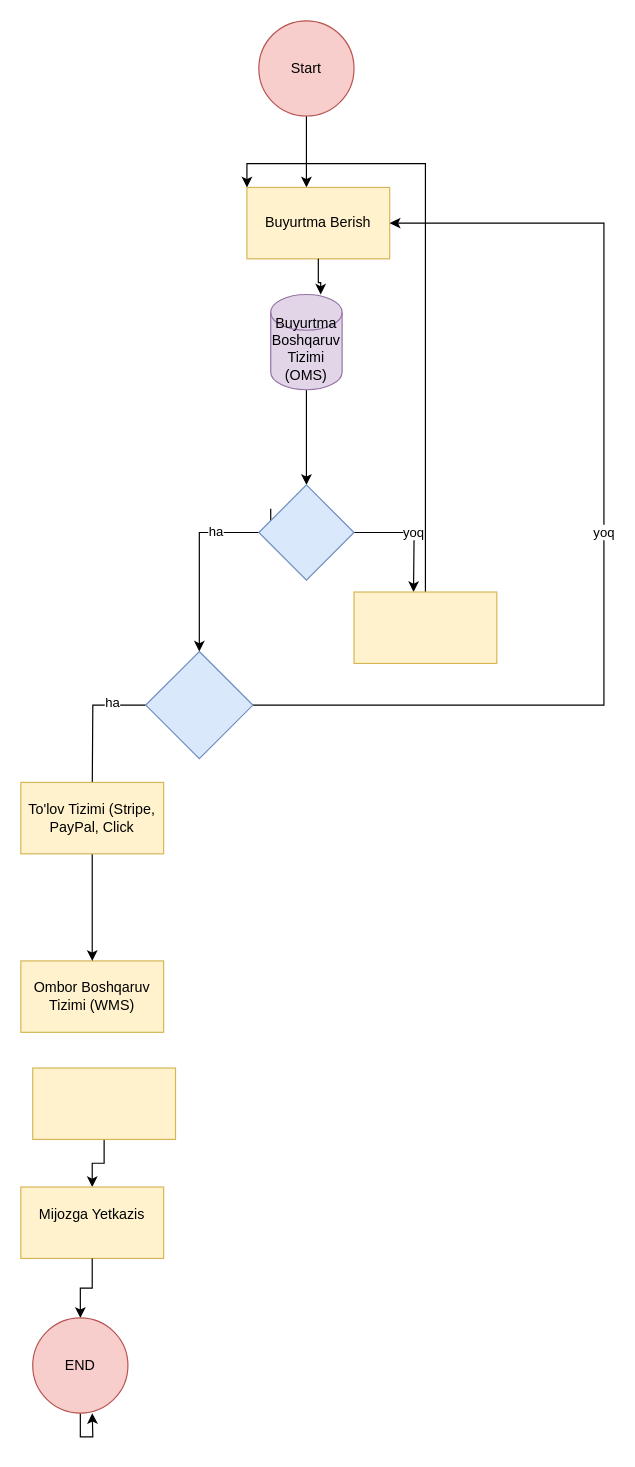
Image size: 635x1467. Some labels were removed from this diagram. Each missing label, with the centre of its shape:
"[Zaxira To'ldirish Jarayoni" belongs at (425,627).
"Jo'natish" belongs at (104,1103).
"Mahsulot Mavjudmi?" belongs at (306,532).
"To'lov Amalga Oshirildimi" belongs at (199,704).
